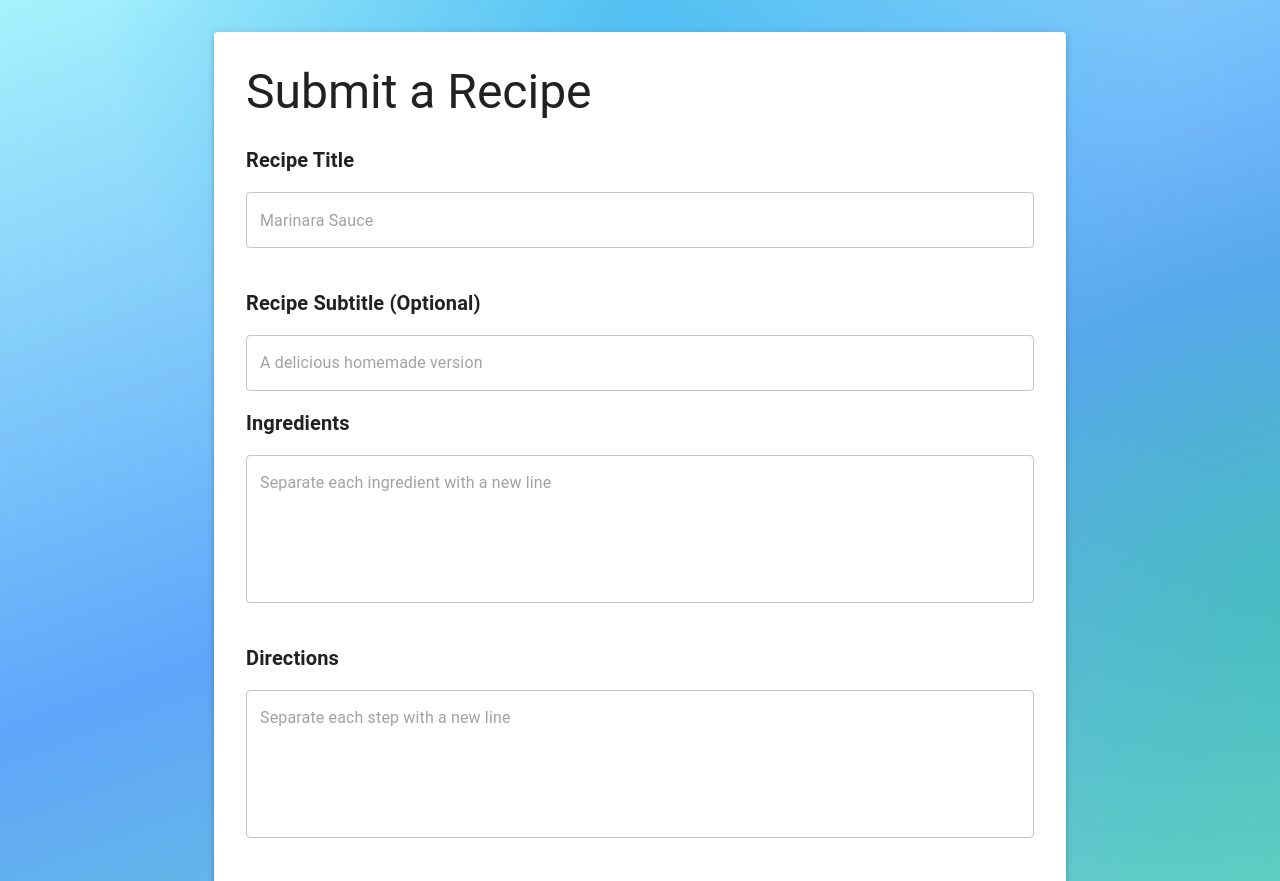
Home - Recipe Submission Form › re-shows field error when user clears a required field after submit
The image size is (1280, 881).
Type "My Cake" into the field with placeholder "Marinara Sauce" at x=640, y=220, box [246,192,1034,248]
(page scrolled)
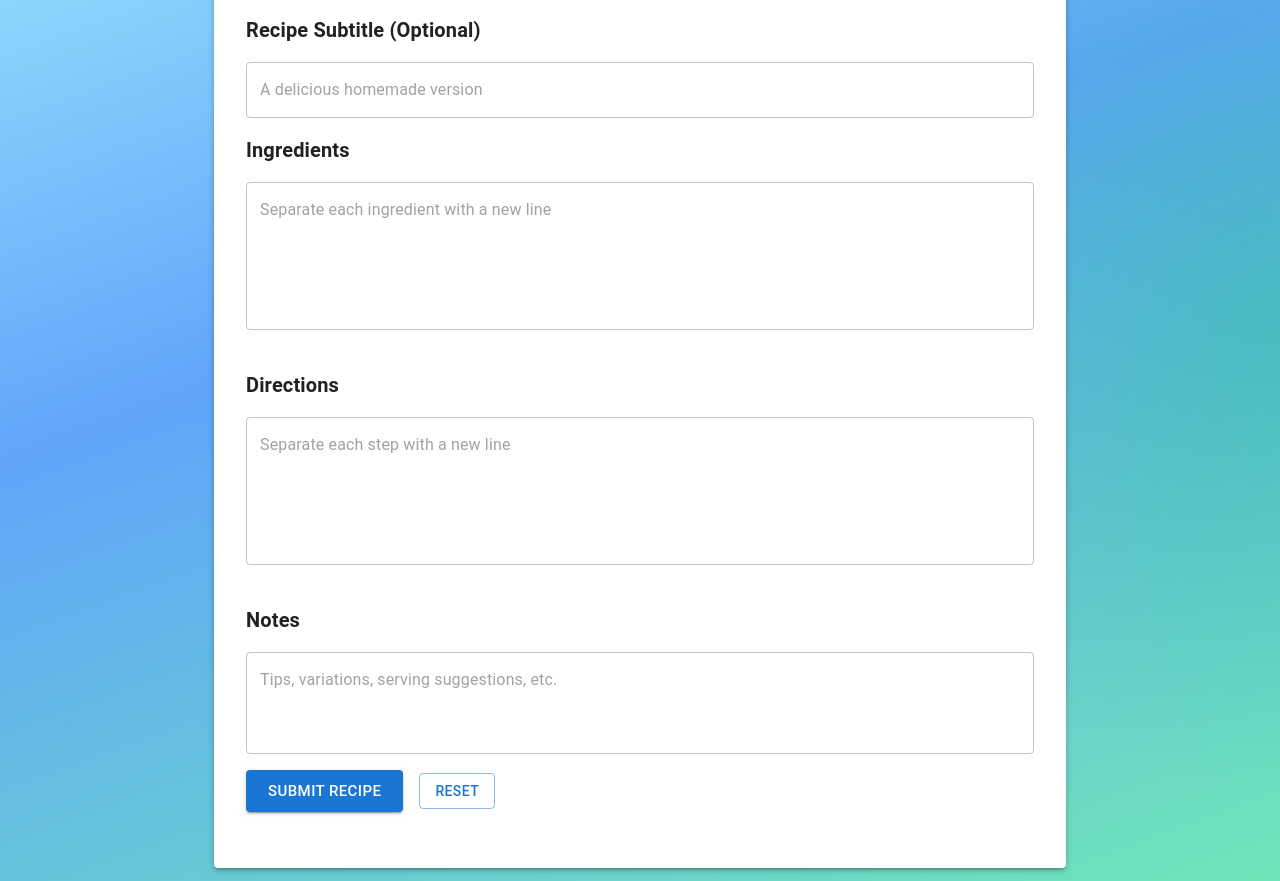
Click the button "Submit Recipe" at x=325, y=791, box [246,770,403,812]
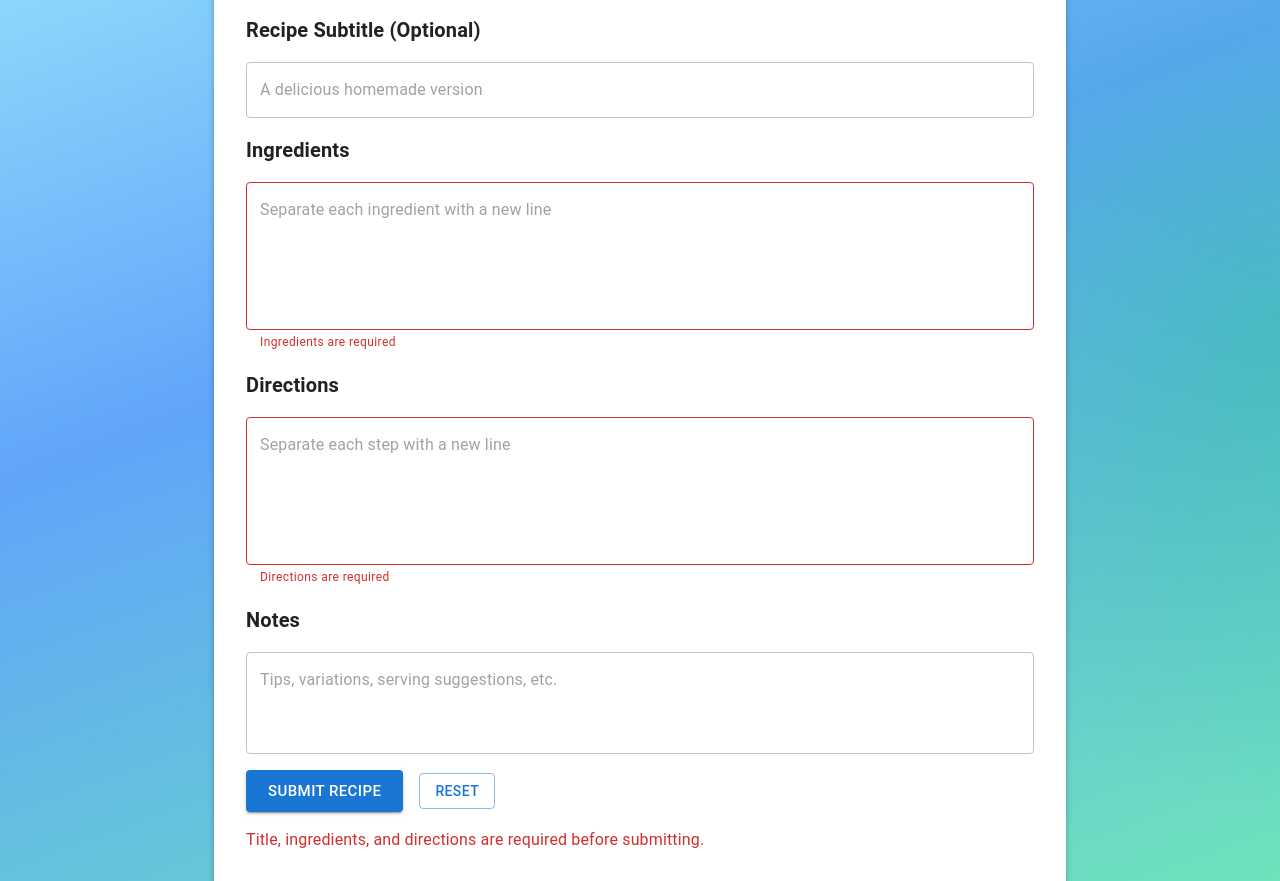
Result: the text "Ingredients are required" is shown at [260,335,396,349]
